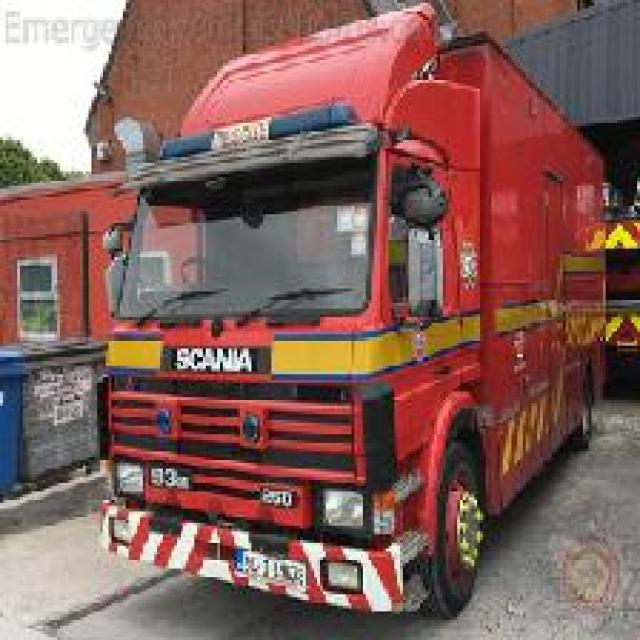Fire-truck: (94, 0, 609, 620)
